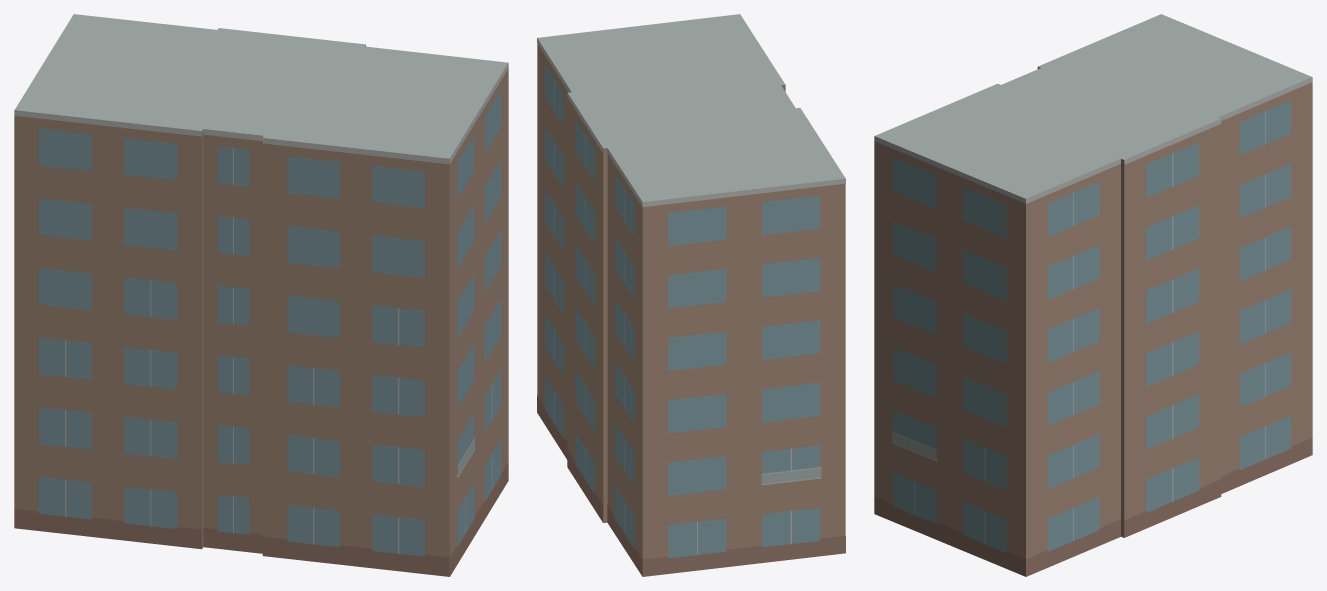
The model's file is survey-upis-32845276.glb.
The picture shows the model from 3 angles, left to right: view 1: azimuth 30°, elevation 25°; view 2: azimuth 150°, elevation 25°; view 3: azimuth 270°, elevation 25°; orthographic projection. The views are drawn at different scales.
Visible parts, largest first — view 1: survey-upis-32845276.tmp; view 2: survey-upis-32845276.tmp; view 3: survey-upis-32845276.tmp.
Boxes of the visible parts, <box> form: survey-upis-32845276.tmp: <box>14,14,508,576</box>; survey-upis-32845276.tmp: <box>537,14,845,576</box>; survey-upis-32845276.tmp: <box>874,14,1312,576</box>.
Size of the model in its own units: 19.21 by 18.3 by 19.24.
